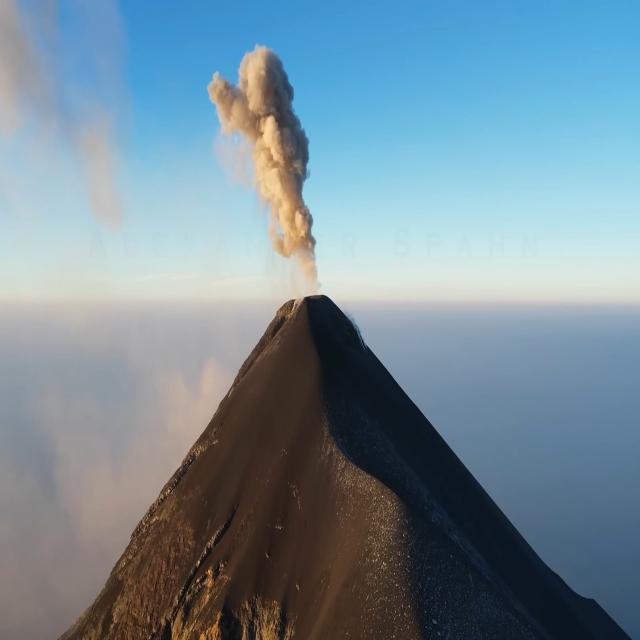Plume: (198, 33, 338, 291)
Summit: (0, 292, 640, 640)
